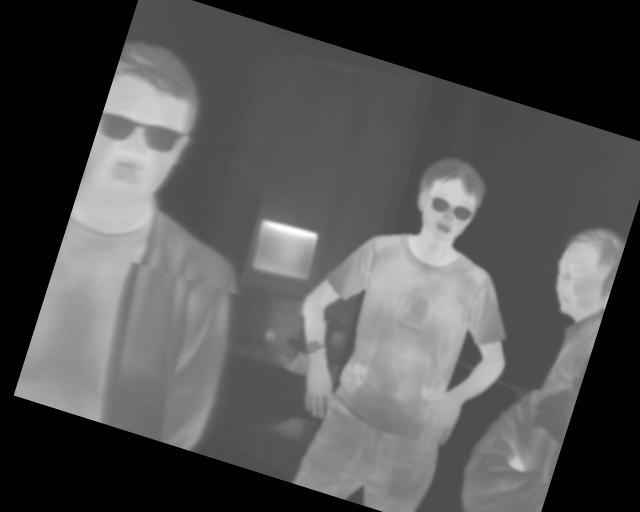face: (77, 34, 217, 220), (405, 148, 492, 252)
